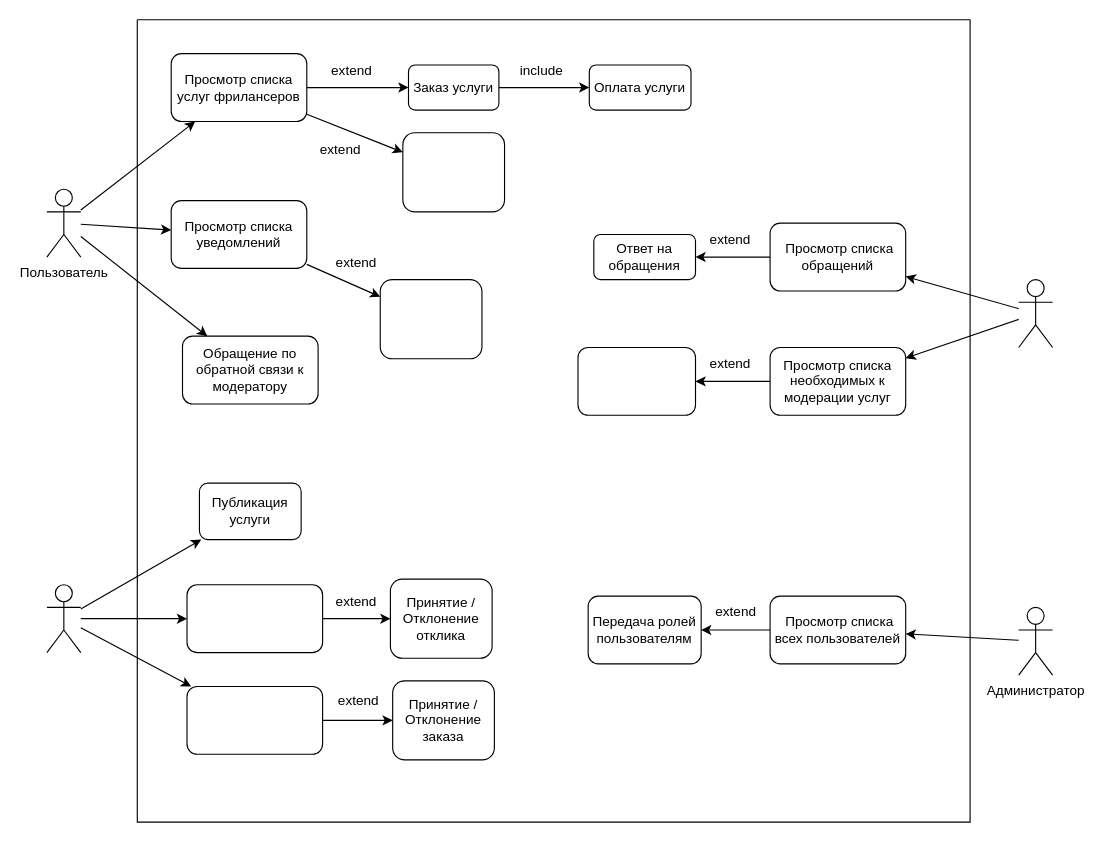
Image size: 1104x842. Some labels were removed from this diagram. The shapes that lost their labels are listed below. From the top down, each one's centre as x and y in pixels, then its label:
point (453, 172): Оставление отклика на обсуждение задачи
point (430, 319): Написание сообщения исполнителю услуги
point (1035, 313): Модератор
point (636, 380): Принятие / Отклонение услуги
point (63, 618): Фрилансер
point (254, 618): Просмотр откликов на услуги
point (254, 719): Просмотр списка заказов услуг
